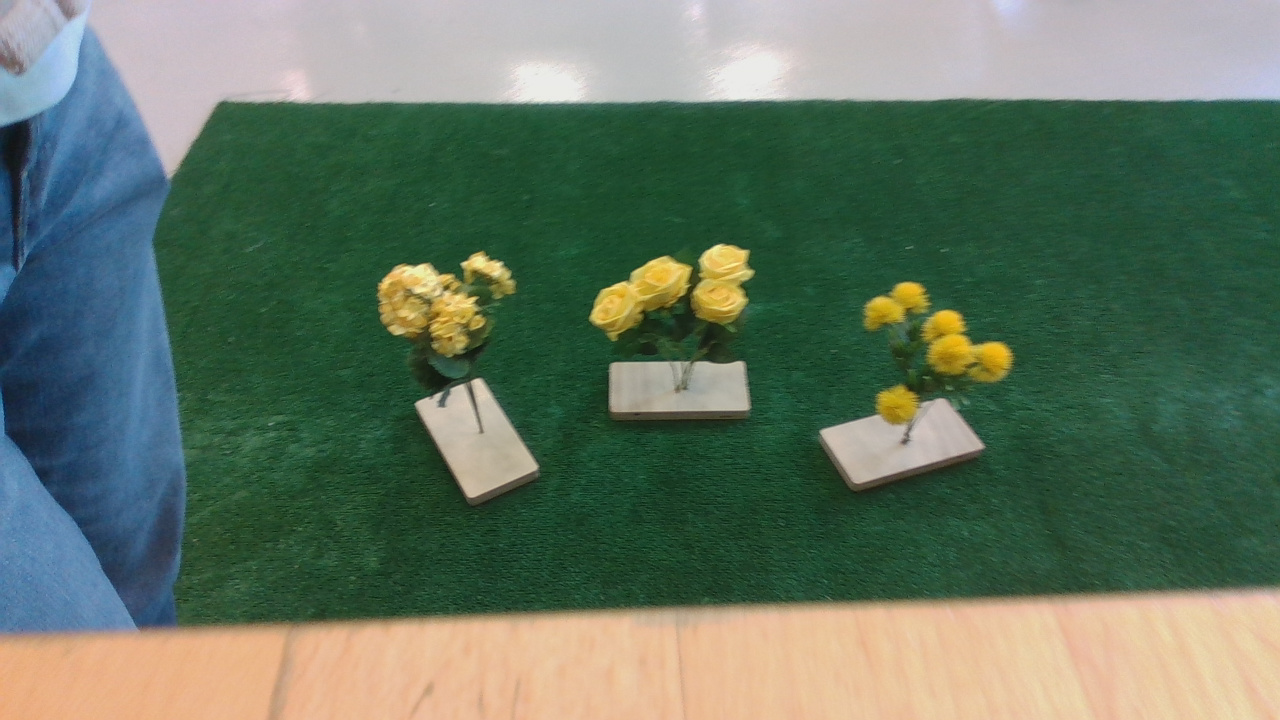dandelion: (851, 275, 1028, 435)
geranium: (370, 243, 534, 394)
rose: (586, 245, 776, 371)
